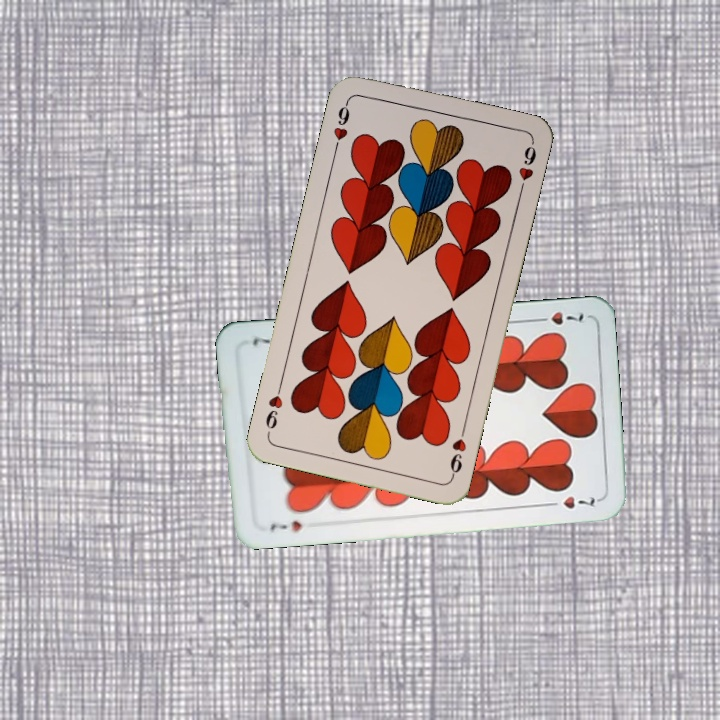H7: (529, 307, 586, 328), (266, 517, 305, 536)
H9: (329, 96, 353, 154), (446, 422, 469, 480)
